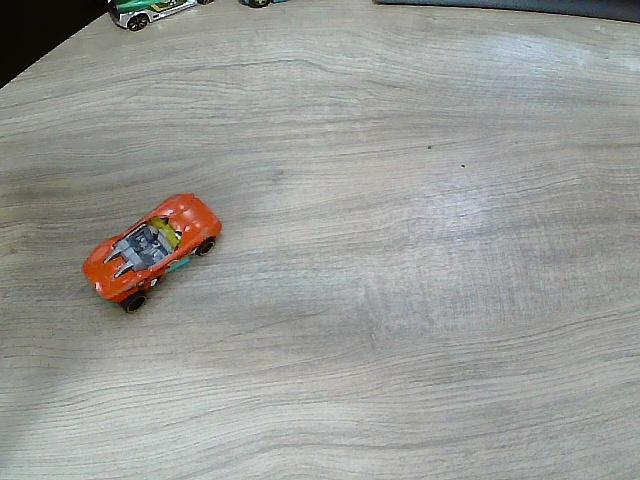Carro: (81, 195, 222, 313), (107, 0, 217, 32)
